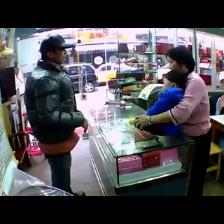person: (135, 47, 211, 195), (25, 35, 88, 195), (146, 70, 187, 115)
